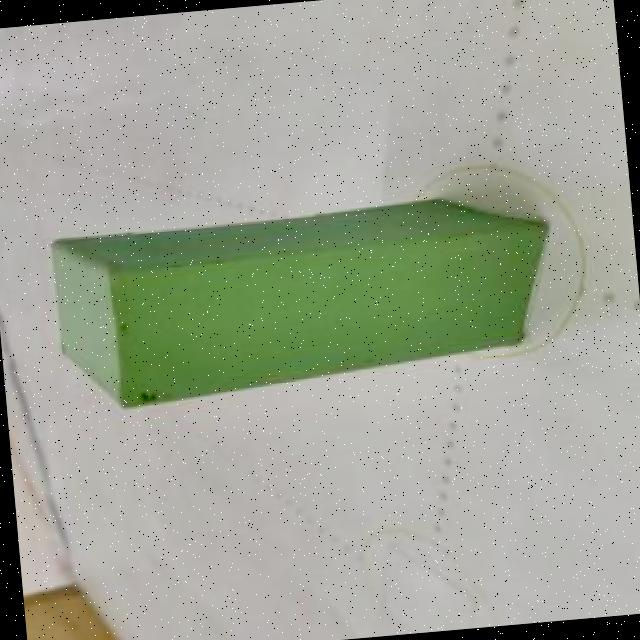greenbox: (48, 188, 564, 416)
